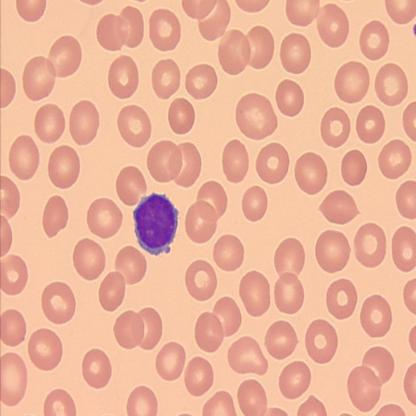Lymphocyte: (132, 192, 180, 258)
